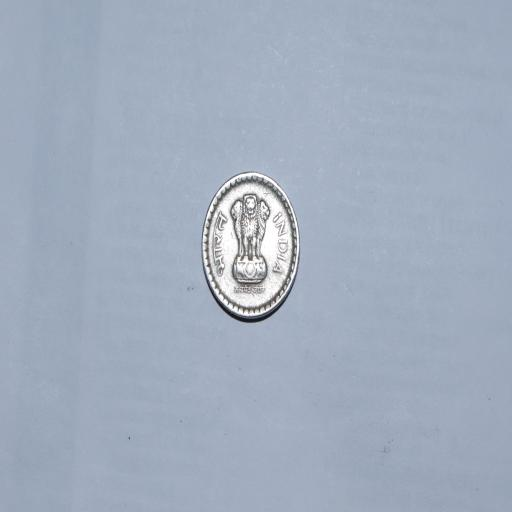rupee5: (198, 172, 304, 326)
